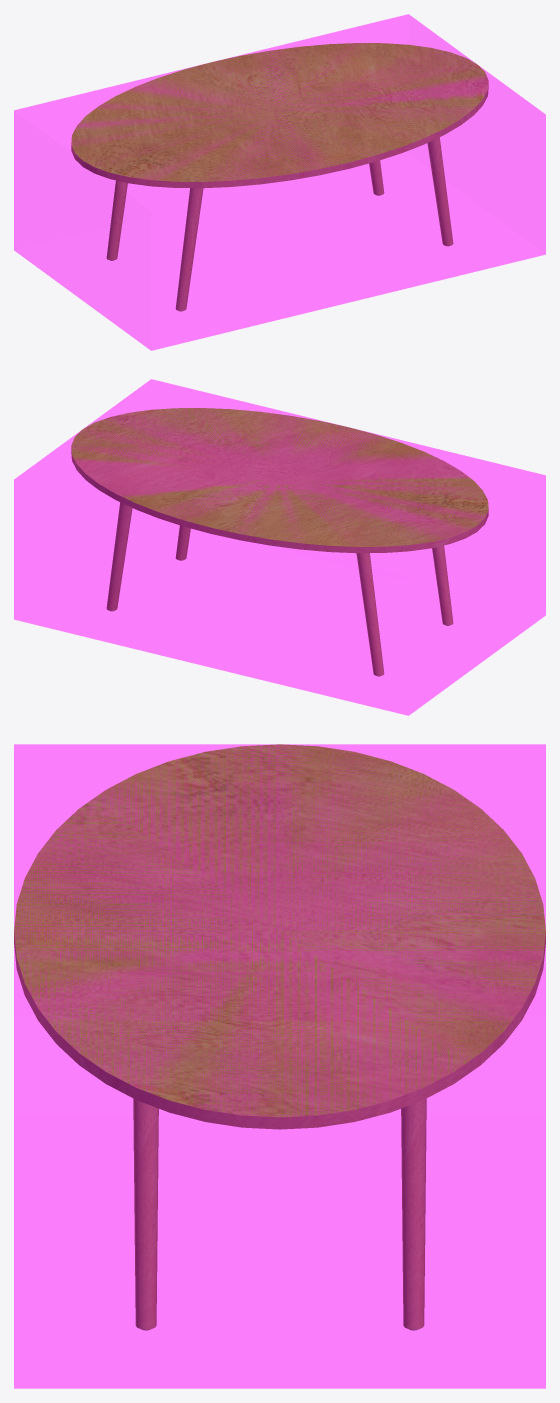
The model's file is lowtable_B.fbx.
3 renders of one model, top to bottom at view 1: azimuth 30°, elevation 25°; view 2: azimuth 150°, elevation 25°; view 3: azimuth 270°, elevation 25°, orthographic. The views are drawn at different scales.
Visible parts, largest first — view 1: lowtable_B_boundingBox, lowtable_B; view 2: lowtable_B_boundingBox, lowtable_B; view 3: lowtable_B_boundingBox, lowtable_B.
Boxes of the visible parts, x1,y1,x2,y2 form: lowtable_B_boundingBox: [14, 14, 545, 350]; lowtable_B: [71, 43, 488, 311]; lowtable_B_boundingBox: [14, 379, 545, 715]; lowtable_B: [71, 408, 488, 676]; lowtable_B_boundingBox: [14, 744, 545, 1388]; lowtable_B: [14, 744, 545, 1330].
Size of the model in its own units: 65.95 by 22.36 by 39.74.
Materials: 3 (1 with a texture image).
